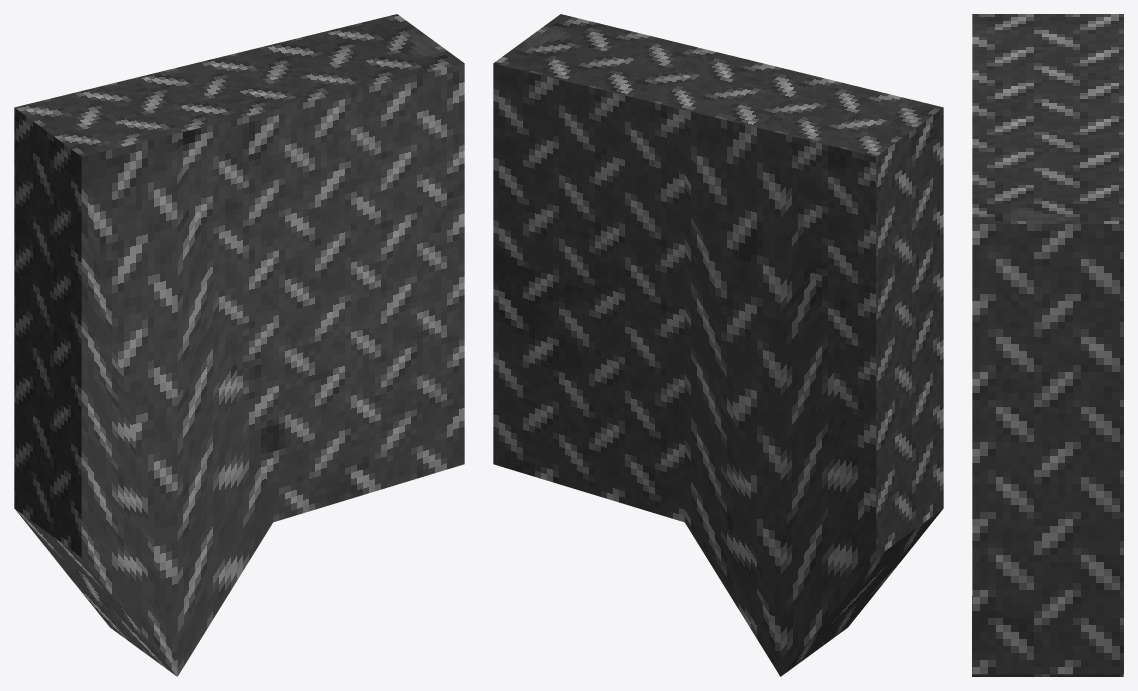
File: balk_15.glb
3 views of the same model, side by side, from view 1: azimuth 30°, elevation 25°; view 2: azimuth 150°, elevation 25°; view 3: azimuth 270°, elevation 25° (orthographic). The views are drawn at different scales.
Parts seen in each view (by area): view 1: Куб.010; view 2: Куб.010; view 3: Куб.010.
Boxes of the visible parts, left/top/right/bottom form: Куб.010: left=14, top=14, right=464, bottom=676; Куб.010: left=493, top=14, right=943, bottom=676; Куб.010: left=972, top=14, right=1123, bottom=676.
Size of the model in its own units: 2.49 by 3.37 by 0.7592.
Materials: 1 (1 with a texture image).
